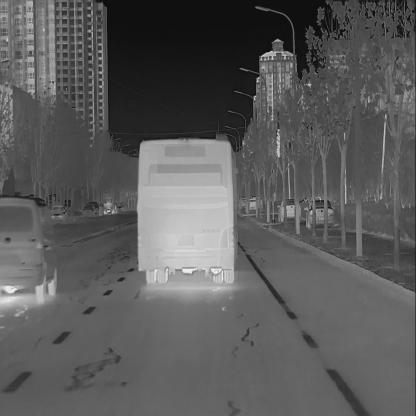bus: (134, 137, 239, 284), (102, 197, 117, 215)
car: (0, 194, 58, 304), (304, 197, 336, 230), (276, 196, 304, 224), (51, 202, 67, 219), (244, 197, 260, 212), (81, 203, 96, 217), (88, 200, 100, 216), (237, 194, 249, 210)
